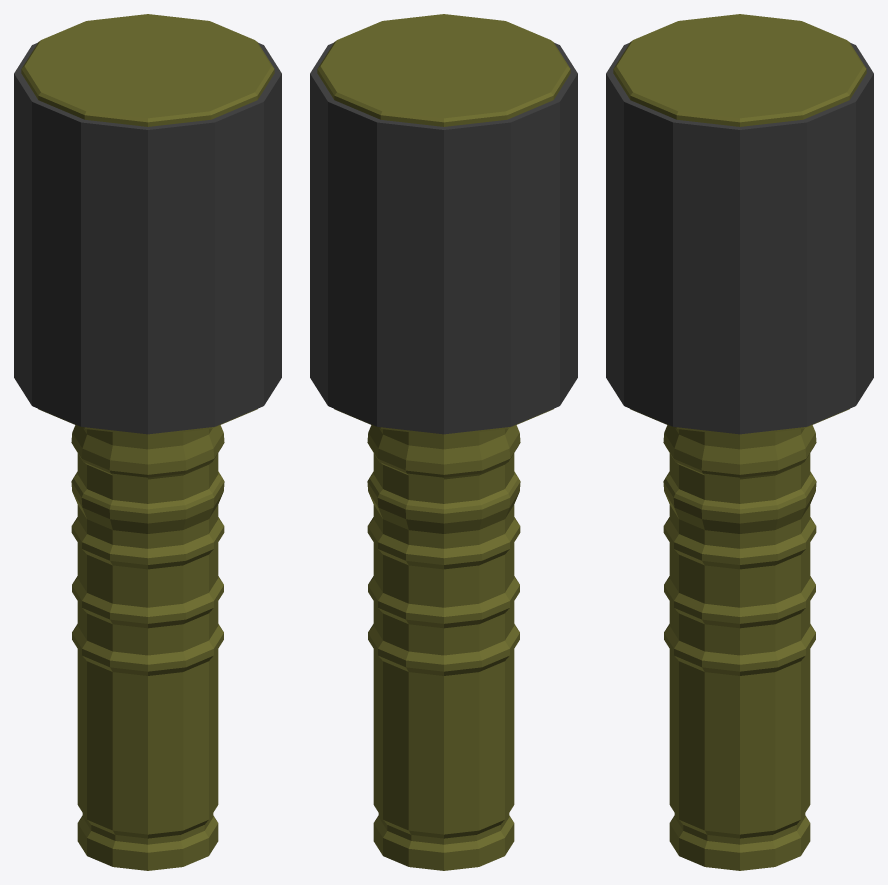
Rendered from RGD-33-Grenade-1-Simplified.fbx.
3 views of the same model, side by side, from view 1: azimuth 30°, elevation 25°; view 2: azimuth 150°, elevation 25°; view 3: azimuth 270°, elevation 25° (orthographic).
Visible parts, largest first — view 1: RGD33Grenade1Simplified; view 2: RGD33Grenade1Simplified; view 3: RGD33Grenade1Simplified.
Boxes of the visible parts, x1,y1,x2,y2 form: RGD33Grenade1Simplified: (14, 14, 281, 870); RGD33Grenade1Simplified: (310, 14, 577, 870); RGD33Grenade1Simplified: (606, 14, 873, 870).
Size of the model in its own units: 0.0595 by 0.19 by 0.0595.
